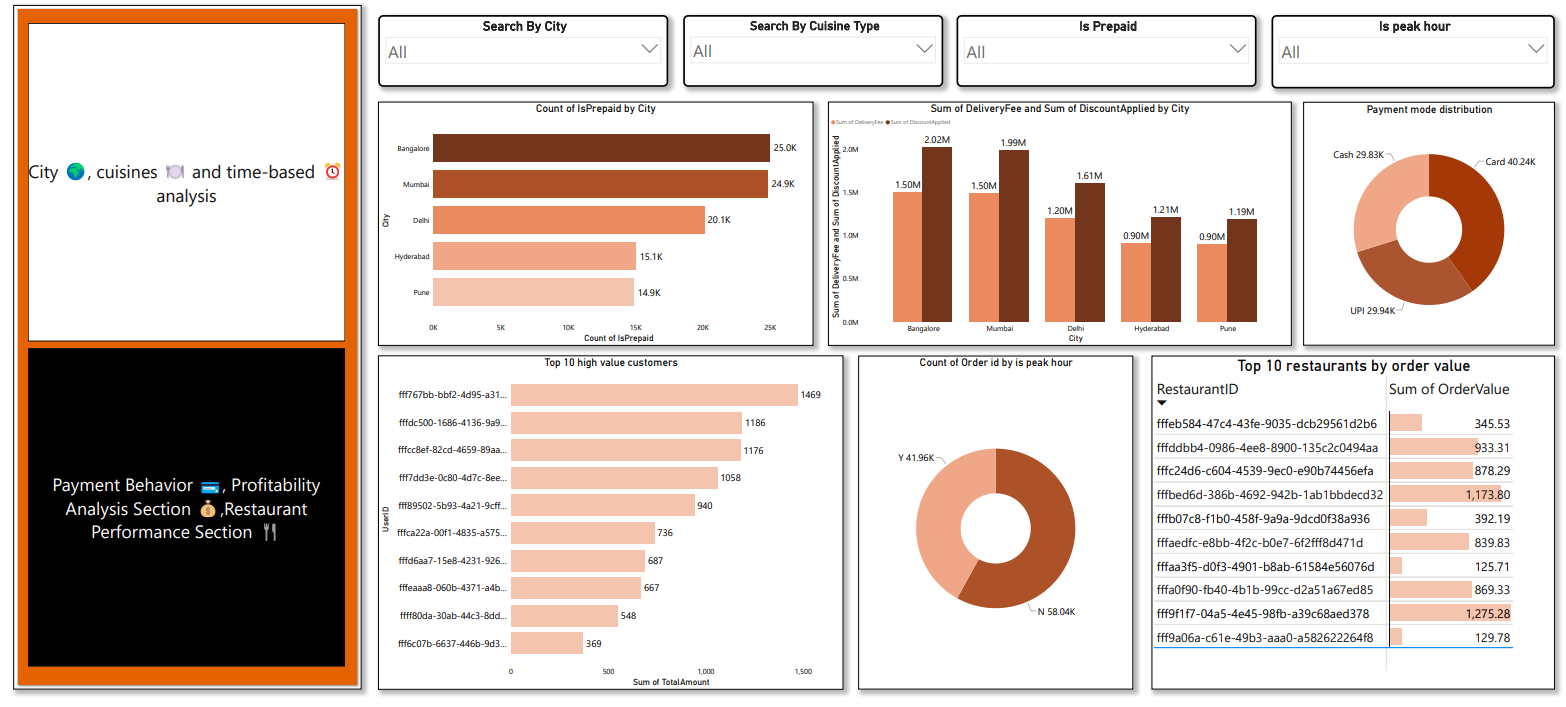

This screenshot's page, from the dashboard's own definition file:
{"tool":"tableau","page":{"name":"Dashboard 1","canvas":[1720,1160],"ordinal":0},"visuals":[{"type":"text","box":[5,4,1715,126]},{"type":"worksheet","title":"Sheet 2","mark":"Automatic","rows":["OrderID"],"cols":["OrderDatetime"],"box":[554,133,561,330]},{"type":"worksheet","title":"Sheet 3","mark":"Automatic","rows":["DeliveryFee"],"cols":["City"],"box":[1121,134,596,327]},{"type":"worksheet","title":"Sheet 1","mark":"Automatic","rows":["City"],"cols":["OrderValue"],"box":[7,135,542,324]},{"type":"worksheet","title":"Sheet 10","mark":"Circle","box":[4,461,510,350]},{"type":"worksheet","title":"Sheet 6","mark":"Automatic","rows":["UserID"],"cols":["TotalAmount"],"box":[516,464,593,344]},{"type":"worksheet","title":"Sheet 5","mark":"Automatic","box":[1112,464,607,347]},{"type":"legend","title":"Sheet 5","param":"[federated.0jja2vn1pwjt8g0zpawjo116l75y].[sum:TotalAmount:qk]","box":[1546,472,166,43]},{"type":"worksheet","title":"Sheet 9","mark":"Automatic","rows":["RestaurantID"],"cols":["OrderValue"],"box":[501,815,552,338]},{"type":"worksheet","title":"Sheet 7","mark":"Pie","box":[1057,815,334,337]},{"type":"worksheet","title":"Sheet 4","mark":"Circle","box":[1396,815,323,337]},{"type":"worksheet","title":"Sheet 8","mark":"Pie","box":[4,816,490,335]},{"type":"legend","title":"Sheet 7","param":"[federated.0jja2vn1pwjt8g0zpawjo116l75y].[cnt:OrderValue:qk]","box":[1079,1099,230,44]}]}

Visuals, with their boxes on the page's 1720x1160 design canvas (x1, y1, x2, y2). These are canvas units, not pixel positions in the 1566x707 screenshot, which may show the page scaled, cropped or inside an application window:
text: [5,4,1720,130]
"Sheet 2" worksheet: [554,133,1115,463]
"Sheet 3" worksheet: [1121,134,1717,461]
"Sheet 1" worksheet: [7,135,549,459]
"Sheet 10" worksheet (Circle marks): [4,461,514,811]
"Sheet 6" worksheet: [516,464,1109,808]
"Sheet 5" worksheet: [1112,464,1719,811]
"Sheet 5" legend: [1546,472,1712,515]
"Sheet 9" worksheet: [501,815,1053,1153]
"Sheet 7" worksheet (Pie marks): [1057,815,1391,1152]
"Sheet 4" worksheet (Circle marks): [1396,815,1719,1152]
"Sheet 8" worksheet (Pie marks): [4,816,494,1151]
"Sheet 7" legend: [1079,1099,1309,1143]
